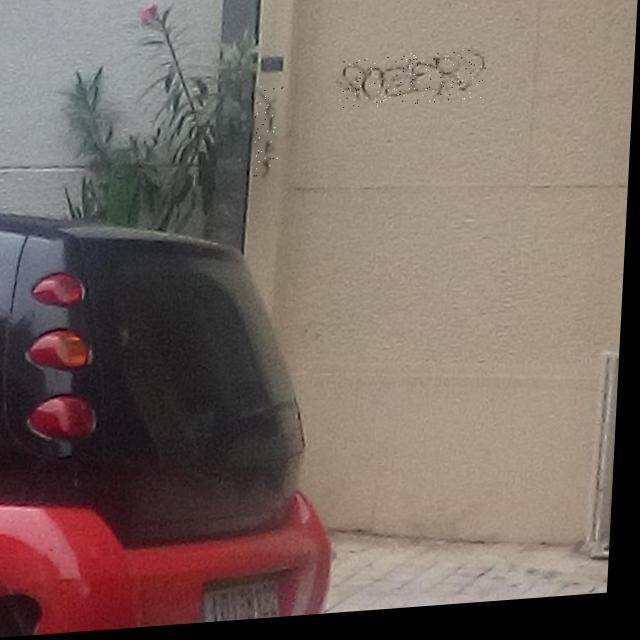-: (340, 56, 488, 114), (254, 89, 285, 185)
